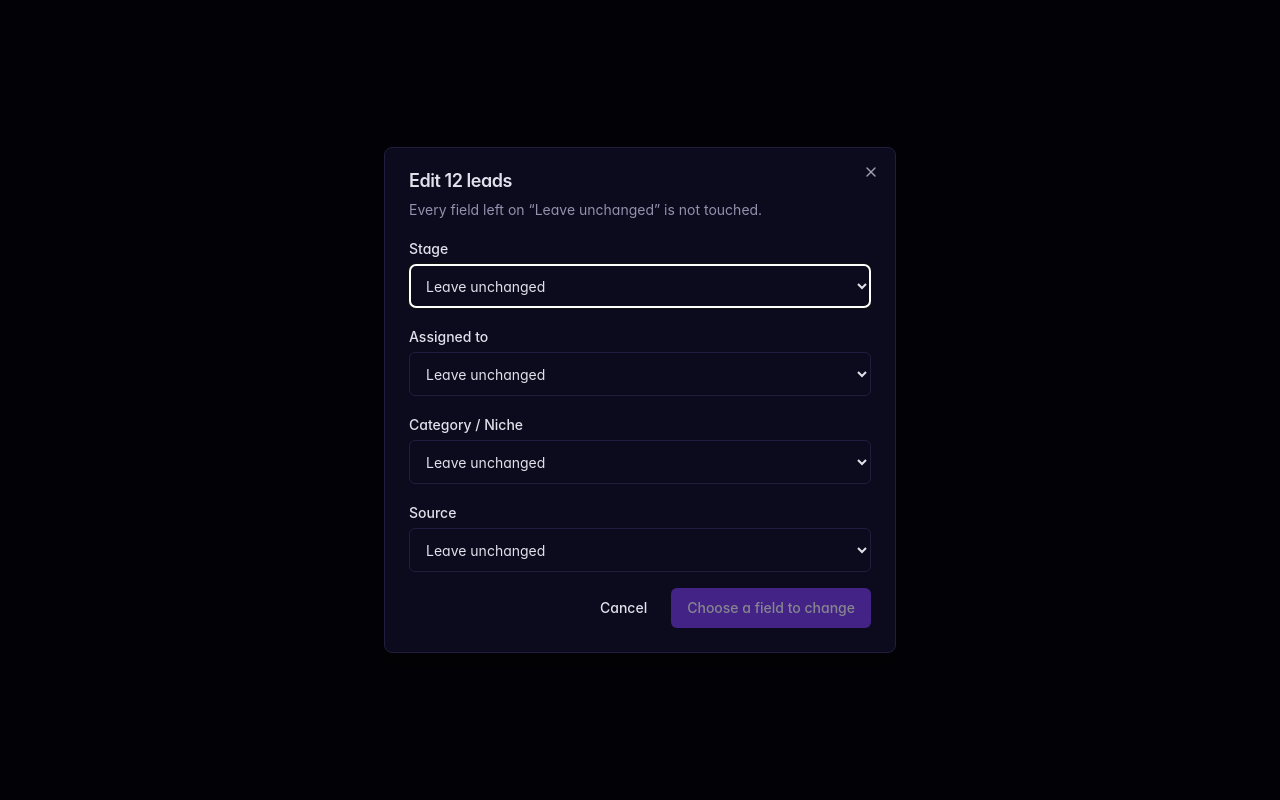
Test case: BulkEditDialog — nothing changes unless you choose it › counts the changes on the button so the blast radius is visible
This screenshot has width=1280, height=800.
Select "Contacted" in the dropdown labelled "Stage": [640, 286] box [409,264,871,308]
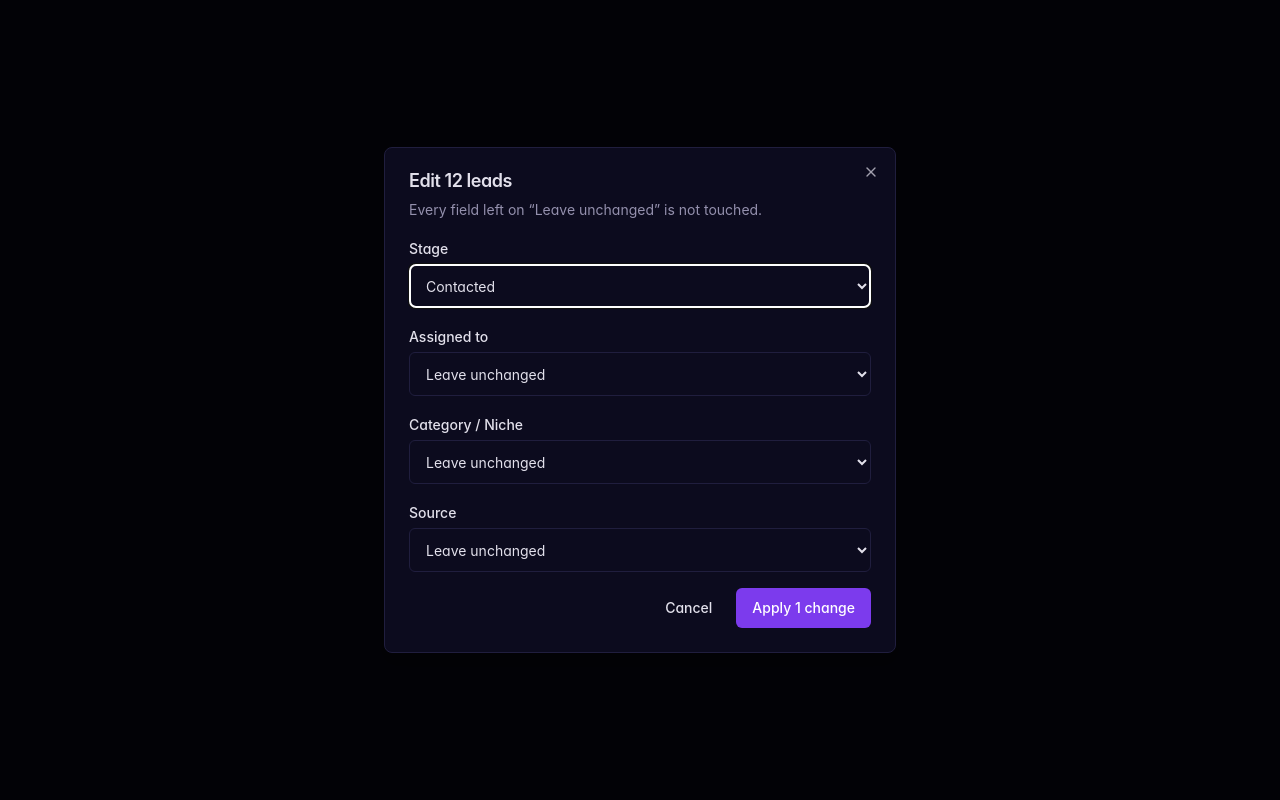
Check: the button "Apply 1 change" is shown, box [736,588,871,628]
Select "Referral" in the dropdown labelled "Source": [640, 550] box [409,528,871,572]
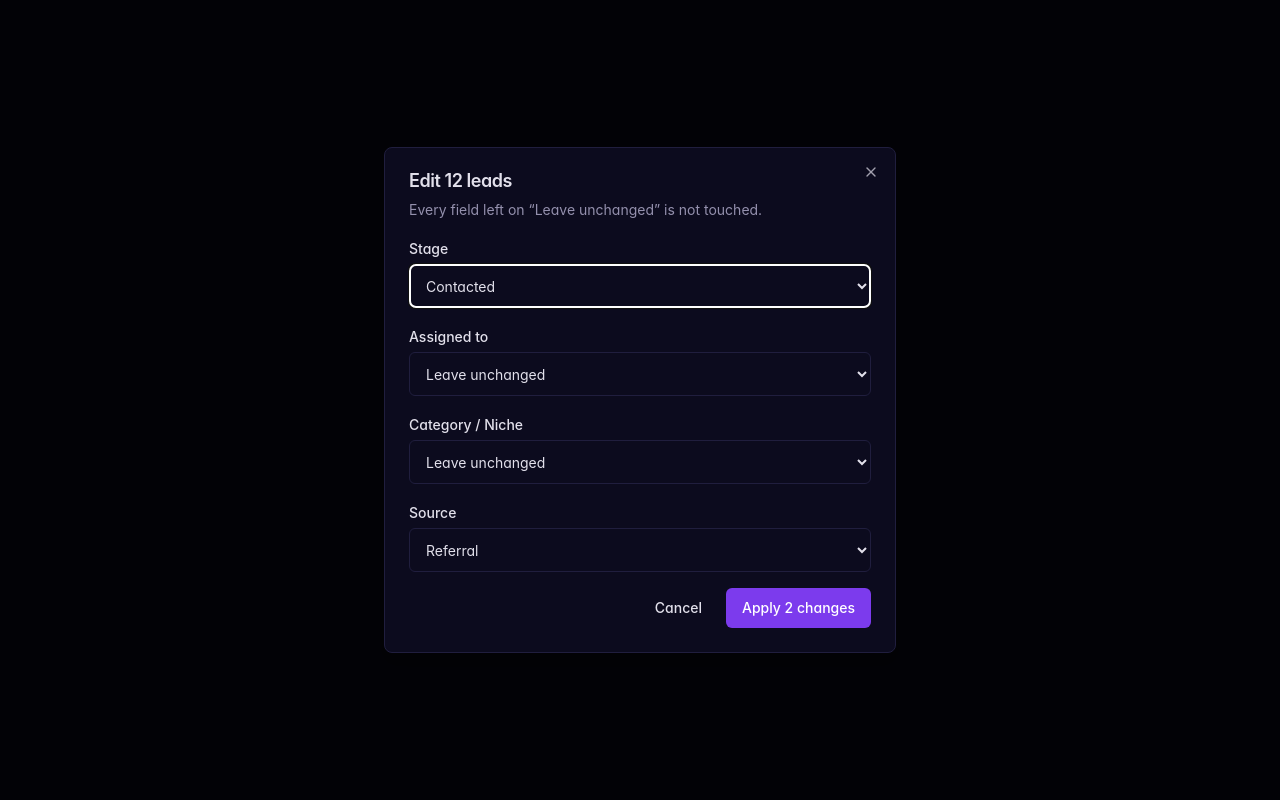
Check: the button "Apply 2 changes" is shown, box [726,588,871,628]
